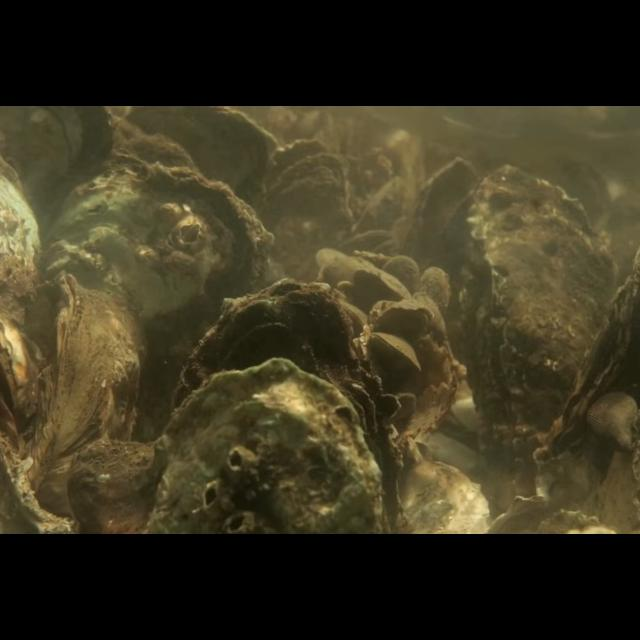Oyster-Closed: (45, 162, 274, 438), (172, 277, 402, 535), (144, 357, 383, 535), (28, 268, 142, 534), (400, 156, 480, 312), (352, 267, 412, 303), (381, 254, 421, 302), (377, 305, 435, 337), (418, 266, 450, 318)
Oyster-Open: (456, 164, 614, 460), (532, 244, 640, 502), (254, 138, 350, 280), (368, 331, 417, 373)
